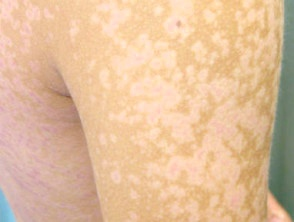SJS-TEN: (60, 0, 290, 221), (0, 0, 90, 222)
